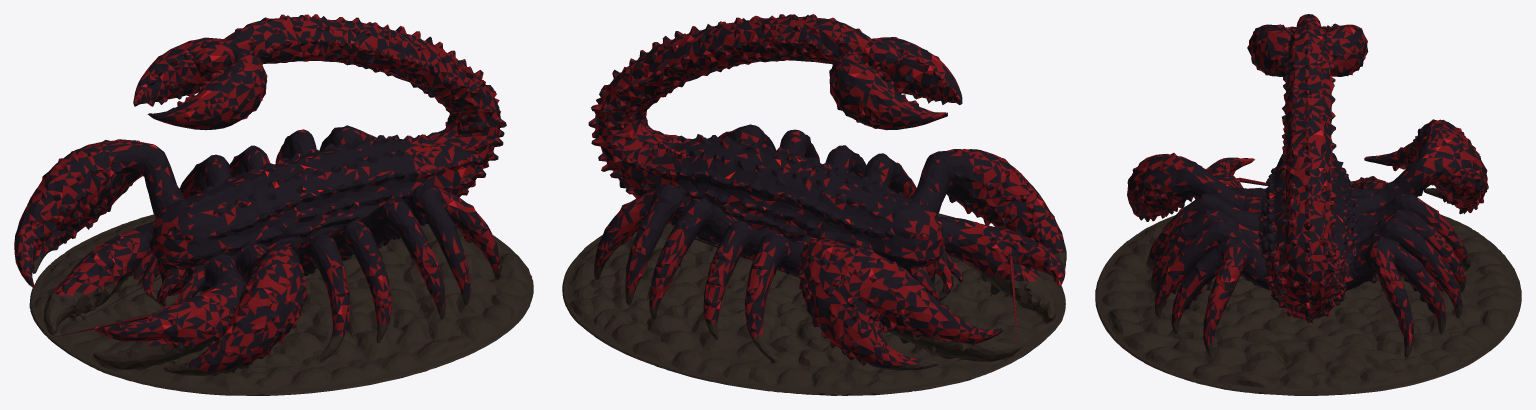
File: lacralion.glb
3 renders of one model, left to right at view 1: azimuth 30°, elevation 25°; view 2: azimuth 150°, elevation 25°; view 3: azimuth 270°, elevation 25°, orthographic. The views are drawn at different scales.
Parts seen in each view (by area): view 1: tmps0rf6vqn.ply; view 2: tmps0rf6vqn.ply; view 3: tmps0rf6vqn.ply.
Part boxes in pixels (x1=…): tmps0rf6vqn.ply: x1=14, y1=14, x2=533, y2=395; tmps0rf6vqn.ply: x1=562, y1=14, x2=1066, y2=395; tmps0rf6vqn.ply: x1=1095, y1=14, x2=1521, y2=395.
Bounding box in the file's own units: 1.96 × 1.19 × 1.77.
